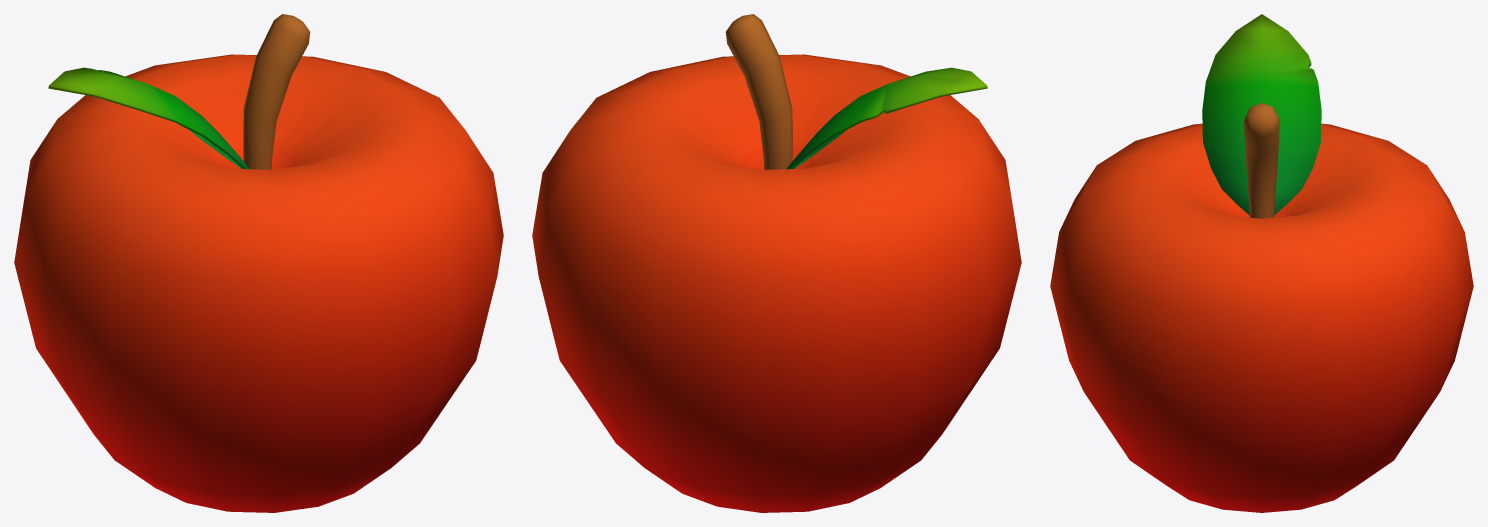
Rendered from Apple.fbx.
3 views of the same model, side by side, from view 1: azimuth 30°, elevation 25°; view 2: azimuth 150°, elevation 25°; view 3: azimuth 270°, elevation 25° (orthographic). The views are drawn at different scales.
Visible parts, largest first — view 1: Apple; view 2: Apple; view 3: Apple.
Part boxes in pixels (box(x1,y1,x2,y2)): Apple: box(14, 14, 503, 512); Apple: box(532, 14, 1021, 512); Apple: box(1050, 14, 1473, 512).
Bounding box in the file's own units: 1.86 × 1.89 × 1.86.
1 material, 1 textured.
